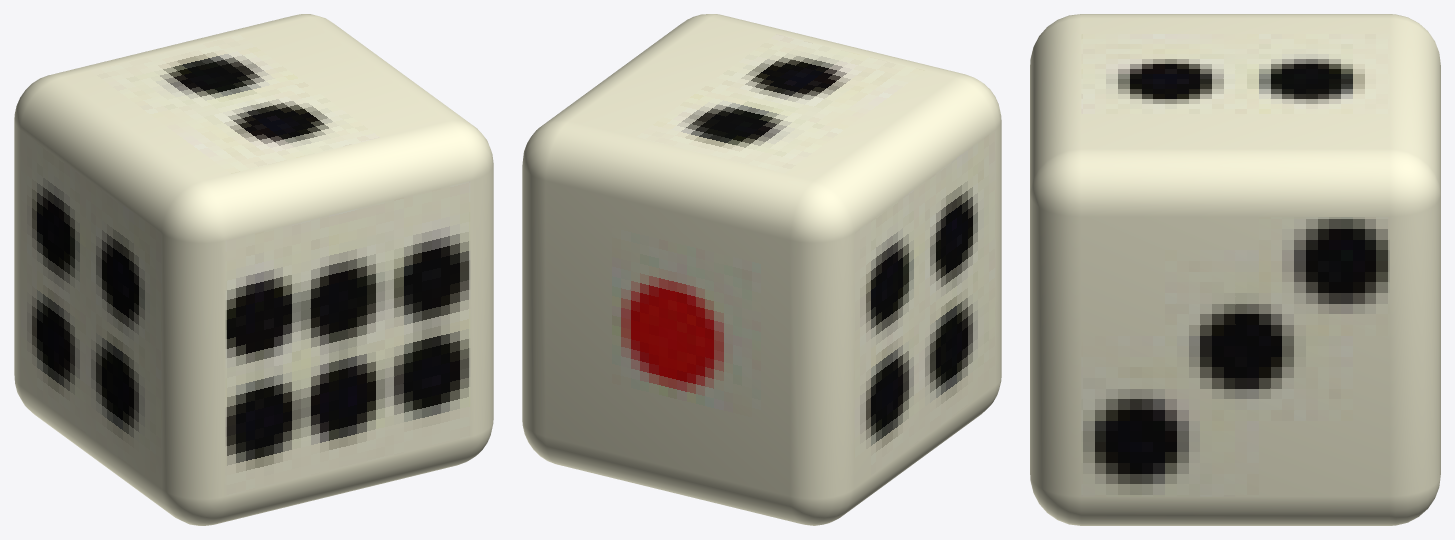
Rendered from dice2.obj.
3 renders of one model, left to right at view 1: azimuth 30°, elevation 25°; view 2: azimuth 150°, elevation 25°; view 3: azimuth 270°, elevation 25°, orthographic. The views are drawn at different scales.
Visible parts, largest first — view 1: ChamferBox01; view 2: ChamferBox01; view 3: ChamferBox01.
Part boxes in pixels (<box>): ChamferBox01: <box>14,14,493,525</box>; ChamferBox01: <box>522,14,1001,525</box>; ChamferBox01: <box>1030,14,1440,525</box>.
Bounding box in the file's own units: 0.1 × 0.1 × 0.1.
